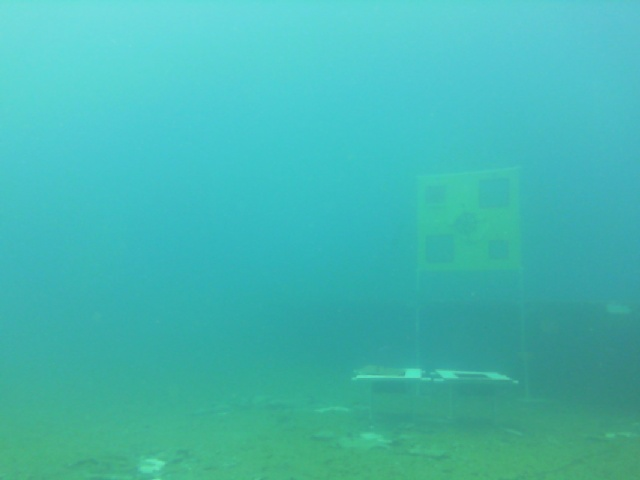torpedo_hole: (480, 180, 509, 207), (427, 236, 454, 263), (489, 238, 508, 259), (427, 184, 448, 202)
torpedo_target: (416, 170, 525, 272)
